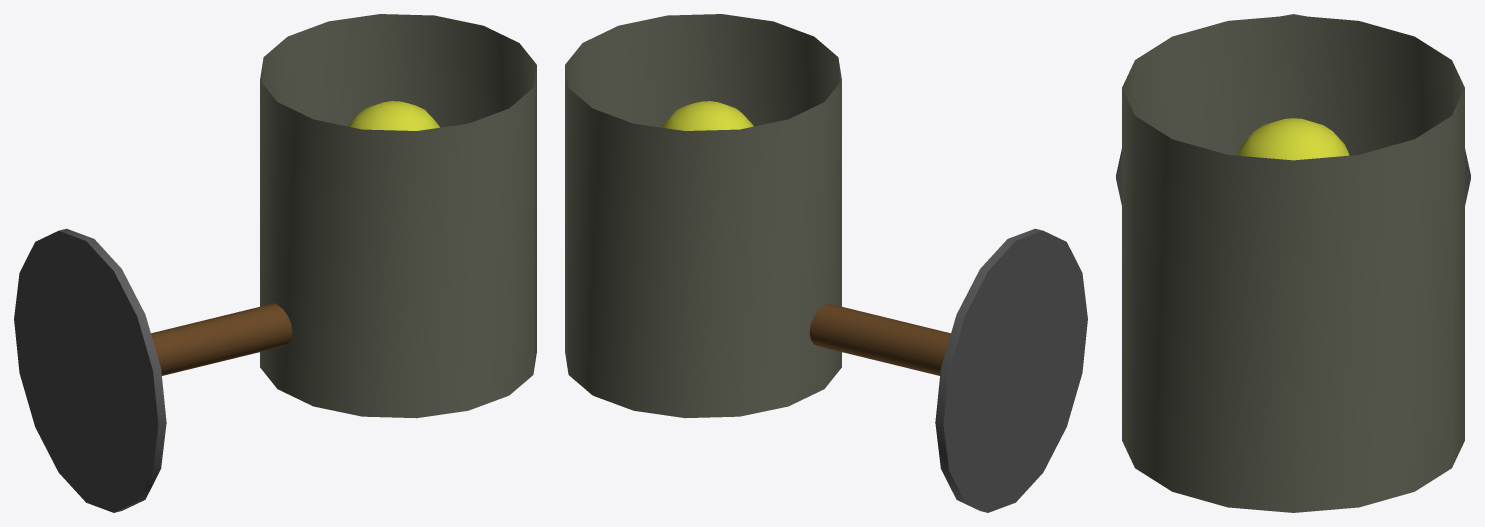
File: Wall Lamp with cover.fbx
3 renders of one model, left to right at view 1: azimuth 30°, elevation 25°; view 2: azimuth 150°, elevation 25°; view 3: azimuth 270°, elevation 25°, orthographic. The views are drawn at different scales.
Visible parts, largest first — view 1: Cylinder_2, Cylinder_1, Cylinder, Sphere; view 2: Cylinder_2, Cylinder_1, Cylinder, Sphere; view 3: Cylinder_2, Sphere, Cylinder_1.
Part boxes in pixels (x1,y1,x2,y2): Cylinder_2: (260,14,536,418); Cylinder_1: (14,228,166,512); Cylinder: (151,303,292,375); Sphere: (348,101,439,130); Cylinder_2: (565,14,841,418); Cylinder_1: (935,228,1087,512); Cylinder: (809,303,950,375); Sphere: (662,101,753,130); Cylinder_2: (1122,15,1464,512); Sphere: (1237,118,1349,160); Cylinder_1: (1116,14,1470,205).
Size of the model in its own units: 179 by 140 by 103.
